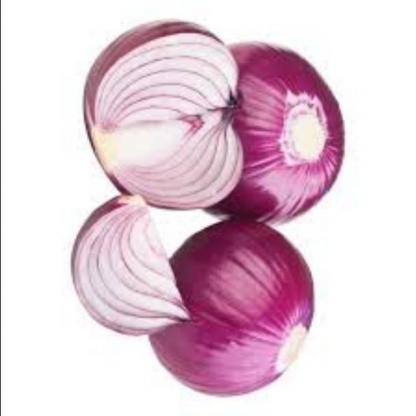onion: (70, 11, 252, 216), (154, 214, 322, 396), (186, 40, 349, 224), (63, 184, 202, 350)
